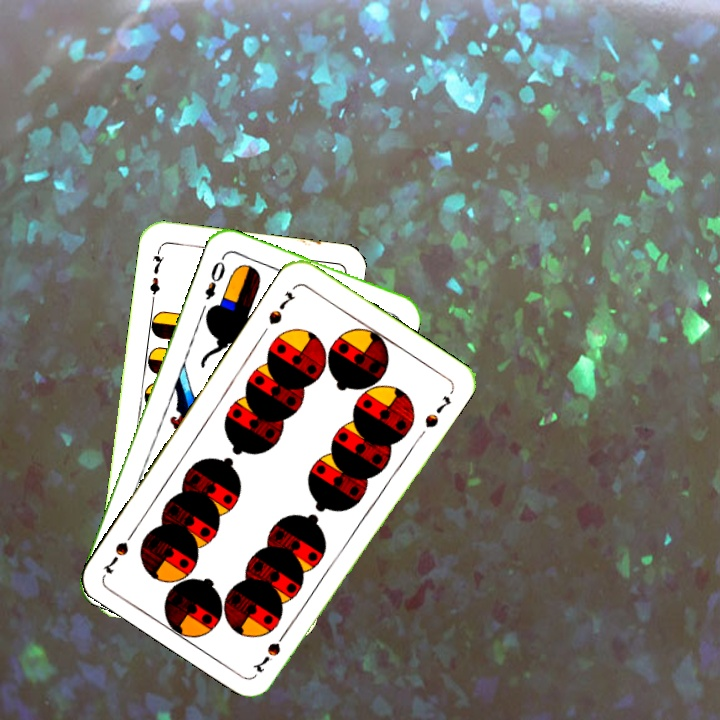E7: (146, 245, 167, 304)
EO: (201, 257, 228, 303)
S7: (250, 624, 291, 675), (264, 287, 298, 328)
